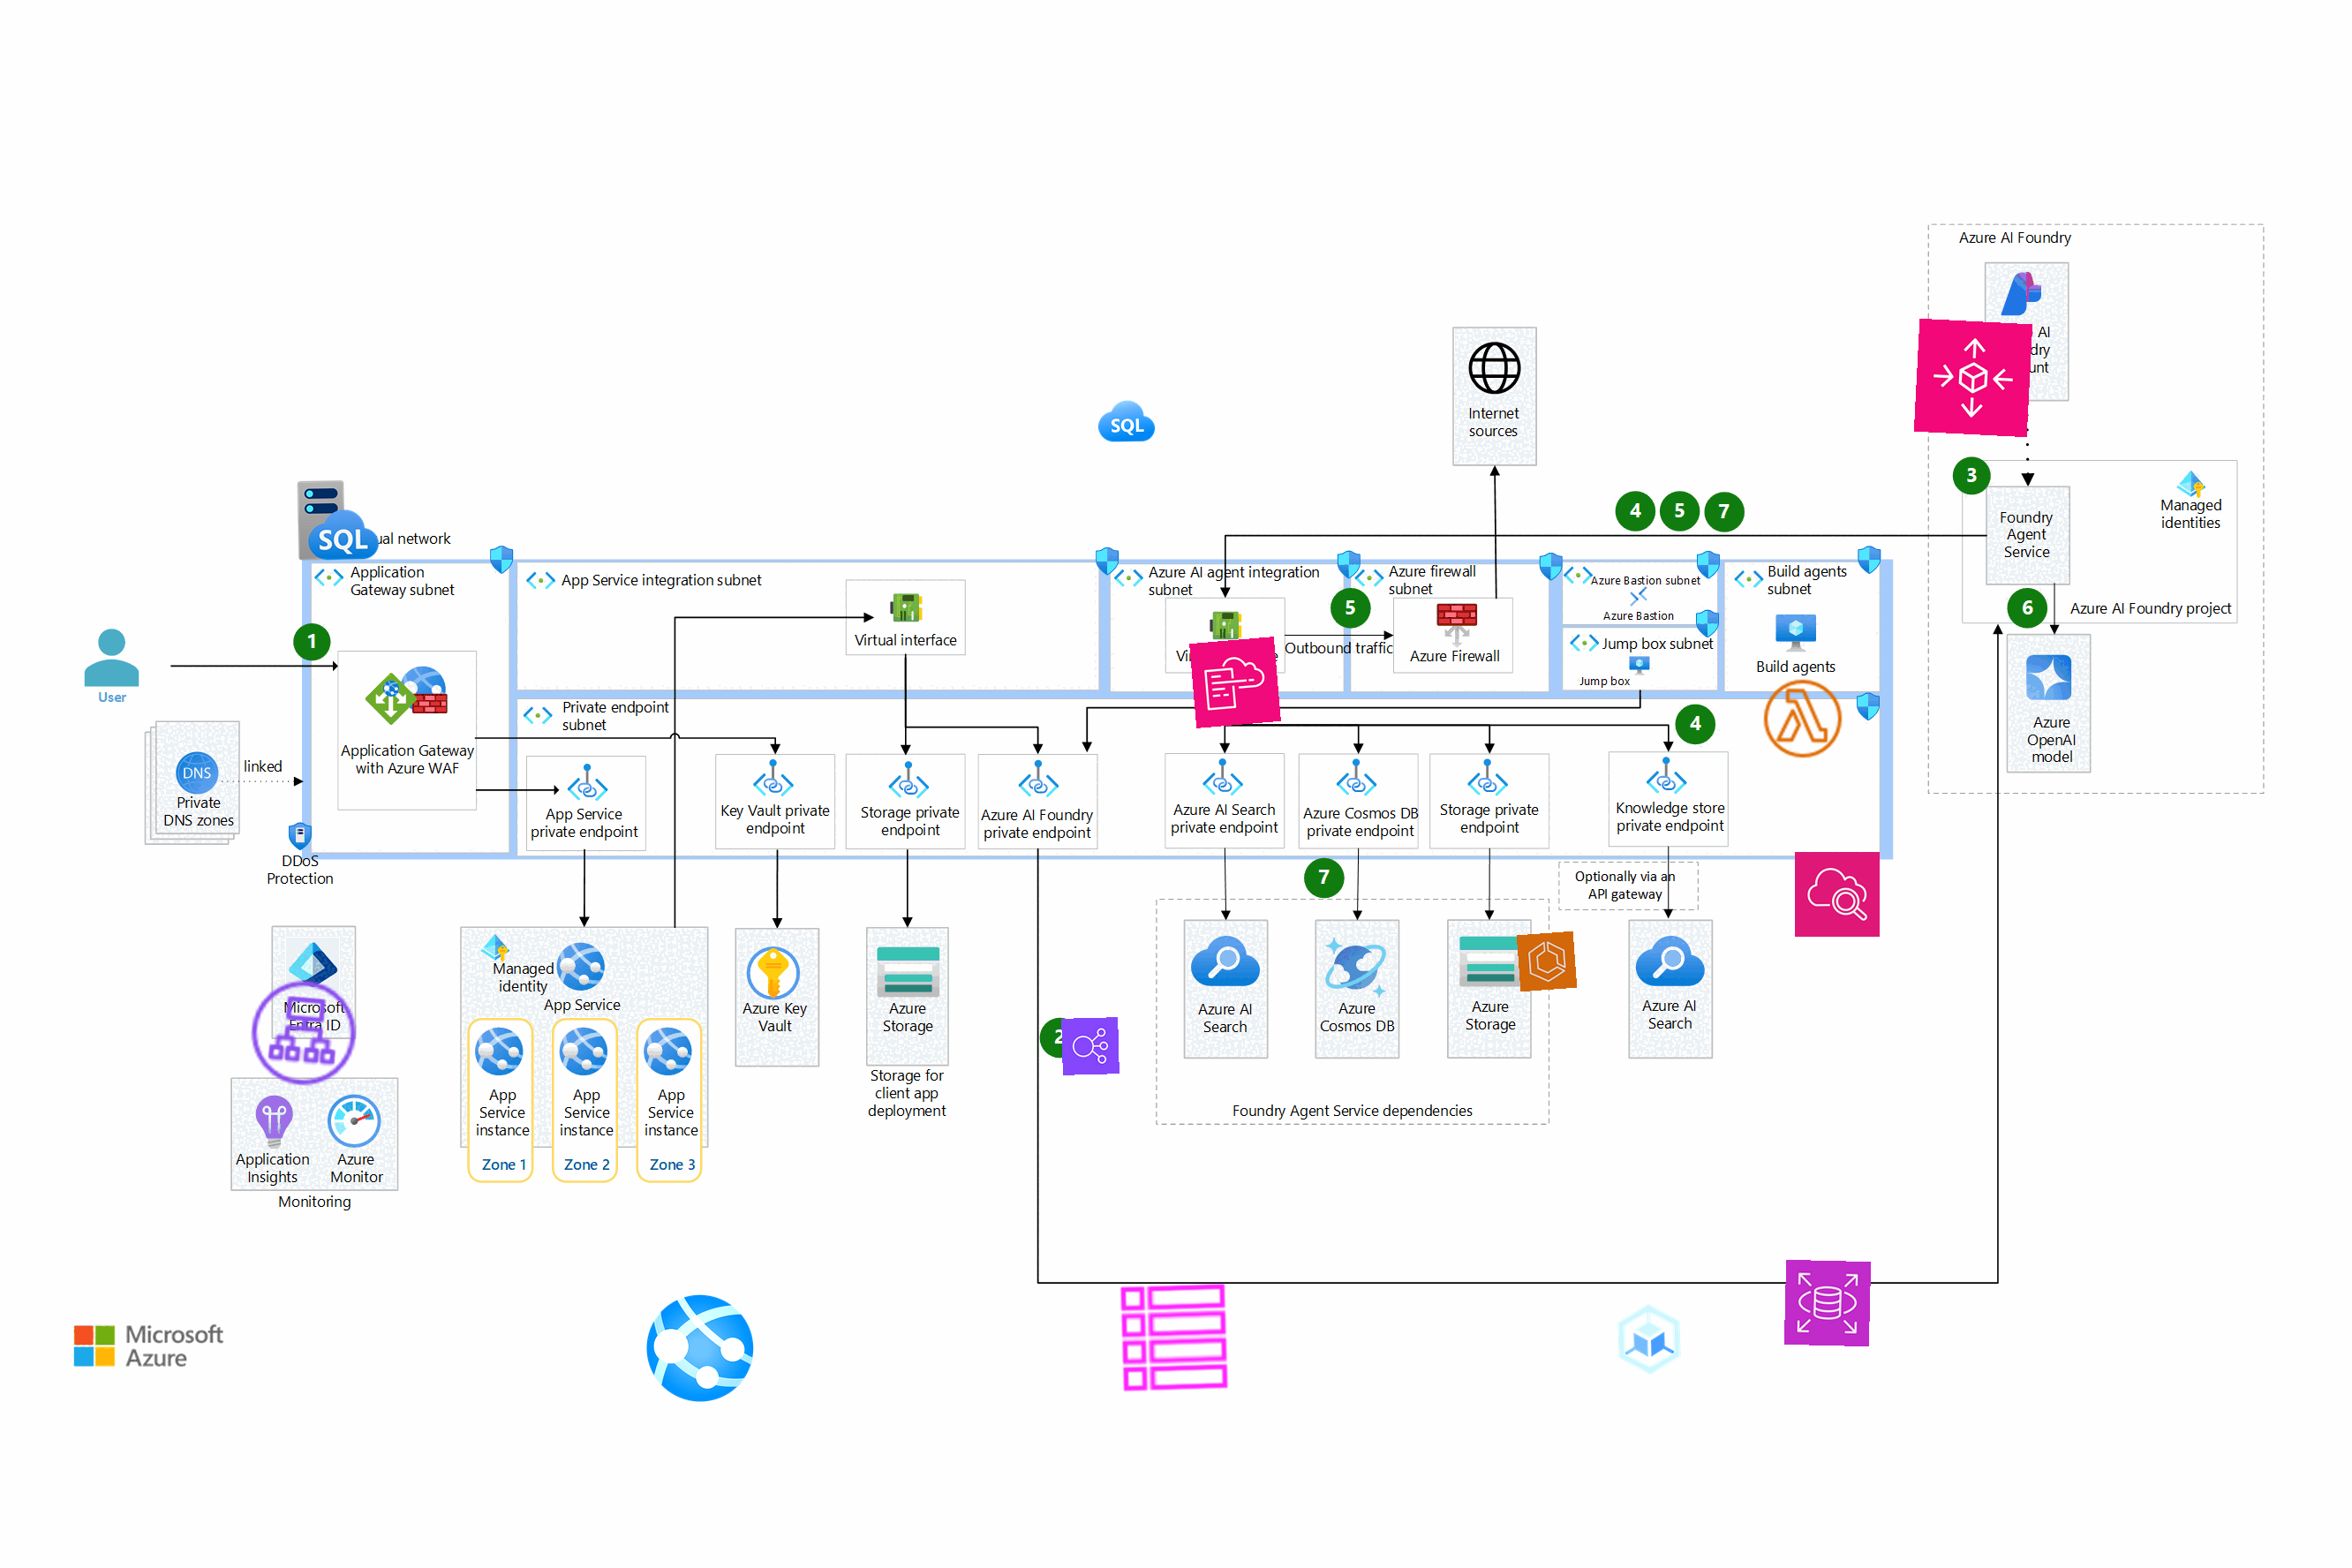aws_amazon_cloudwatch: (1794, 850, 1881, 938)
aws_amazon_elastic_container_service: (1515, 931, 1578, 992)
aws_amazon_rds: (1783, 1258, 1873, 1347)
aws_auto_scaling: (1913, 318, 2033, 437)
aws_cloudformation: (1190, 637, 1281, 728)
aws_dynamodb_table: (1116, 1279, 1232, 1396)
aws_elastic_load_balancing: (1060, 1017, 1120, 1074)
aws_elastic_load_balancing_application_load_balancer: (241, 971, 366, 1095)
aws_lambda_lambda_function: (1759, 675, 1846, 761)
azure_app_services: (642, 1291, 758, 1405)
azure_sql: (1097, 394, 1155, 451)
azure_sql_managed_instance: (294, 476, 381, 563)
gcp_google_kubernetes_engine: (1605, 1295, 1694, 1384)
